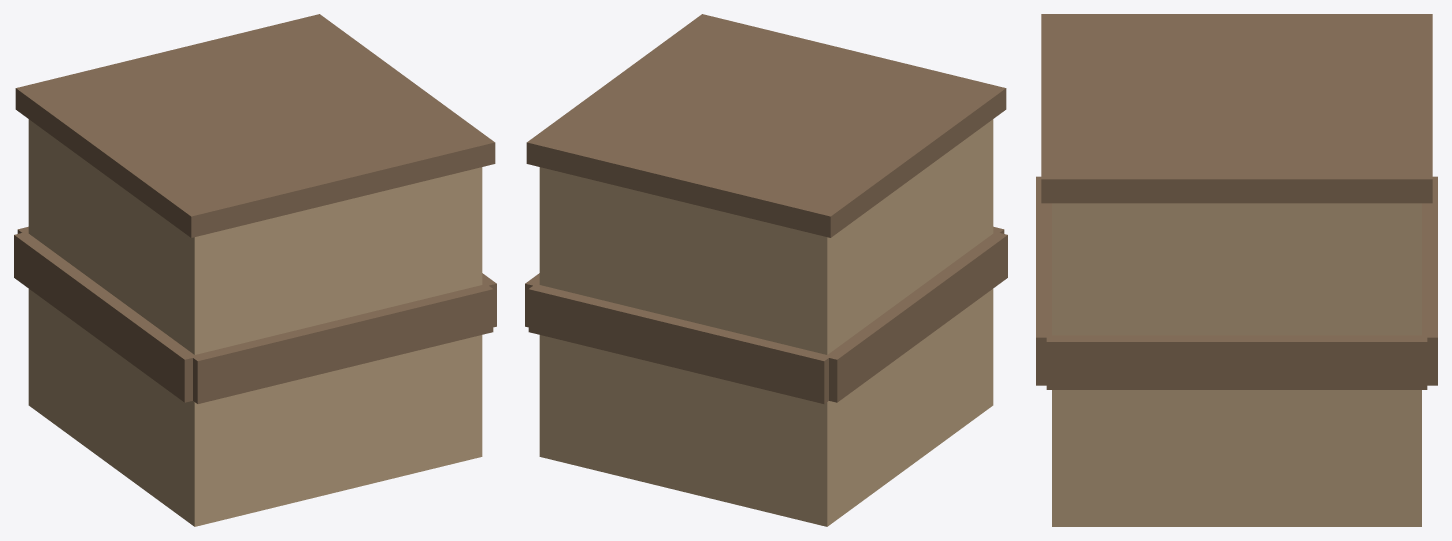
The model's file is crate.glb.
3 views of the same model, side by side, from view 1: azimuth 30°, elevation 25°; view 2: azimuth 150°, elevation 25°; view 3: azimuth 270°, elevation 25° (orthographic). The views are drawn at different scales.
Parts seen in each view (by area): view 1: crate_00, crate_05, crate_01, crate_03; view 2: crate_00, crate_05, crate_02, crate_03; view 3: crate_00, crate_05, crate_04, crate_01, crate_02.
Part boxes in pixels (left/top/right/bottom): crate_00: left=28, top=119, right=482, bottom=526; crate_05: left=15, top=14, right=495, bottom=237; crate_01: left=188, top=282, right=493, bottom=403; crate_03: left=14, top=231, right=200, bottom=402; crate_00: left=539, top=119, right=993, bottom=526; crate_05: left=526, top=14, right=1006, bottom=237; crate_02: left=528, top=283, right=833, bottom=403; crate_03: left=821, top=231, right=1007, bottom=402; crate_00: left=1052, top=203, right=1421, bottom=526; crate_05: left=1041, top=14, right=1432, bottom=203; crate_04: left=1046, top=333, right=1427, bottom=389; crate_01: left=1036, top=176, right=1057, bottom=385; crate_02: left=1416, top=176, right=1437, bottom=385.
Size of the model in its own units: 0.76 by 0.735 by 0.76.
